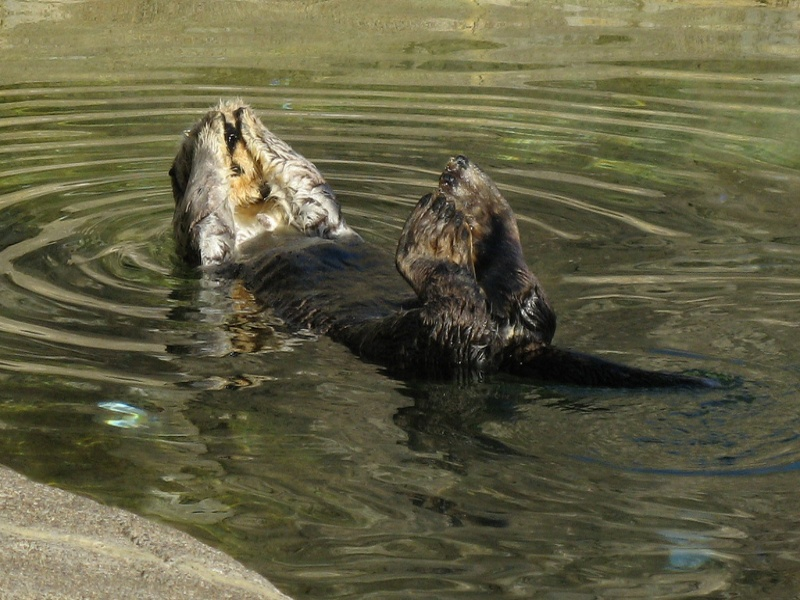minkish: (177, 111, 292, 210)
